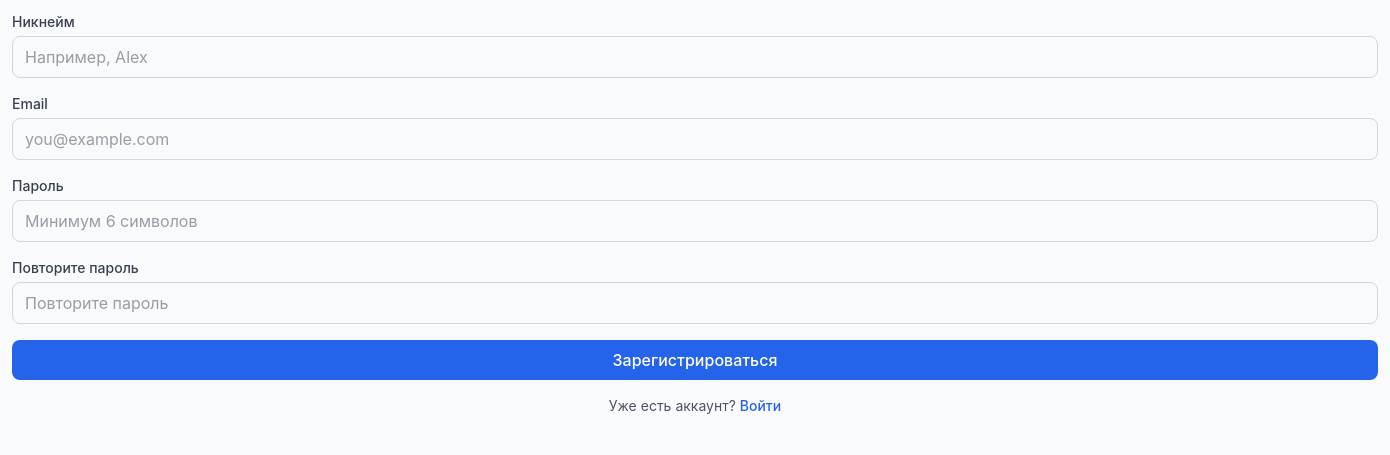
Test: RegisterForm › показывает ошибку при несовпадении паролей и не вызывает register
In the field with placeholder "Например, Alex": (695,57) top-left (12, 36), bottom-right (1378, 78), type "alex"
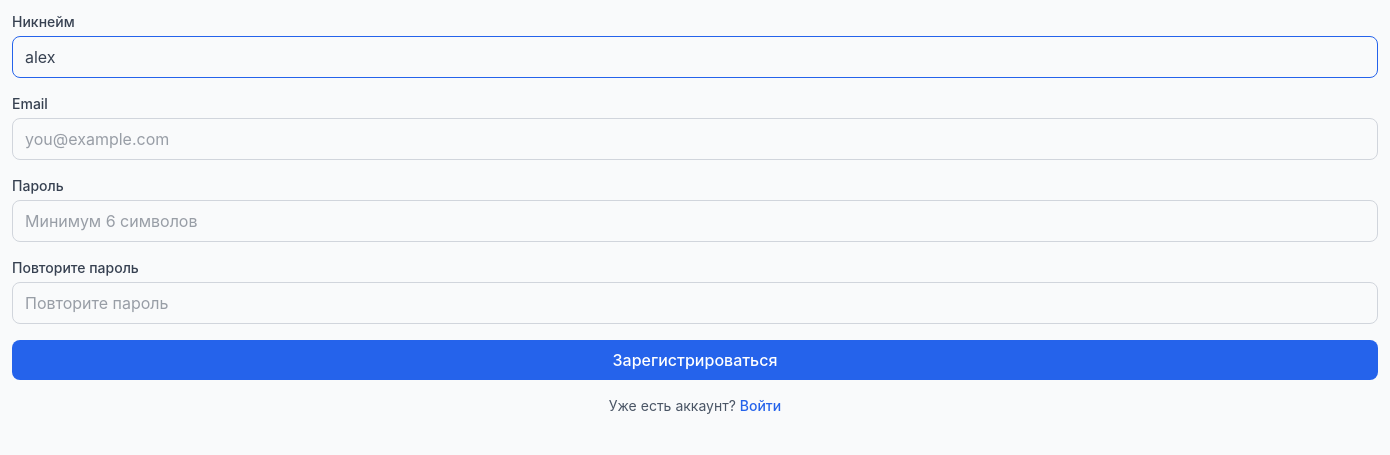
In the field with placeholder "you@example.com": (695,139) top-left (12, 118), bottom-right (1378, 160), type "alex@example.com"
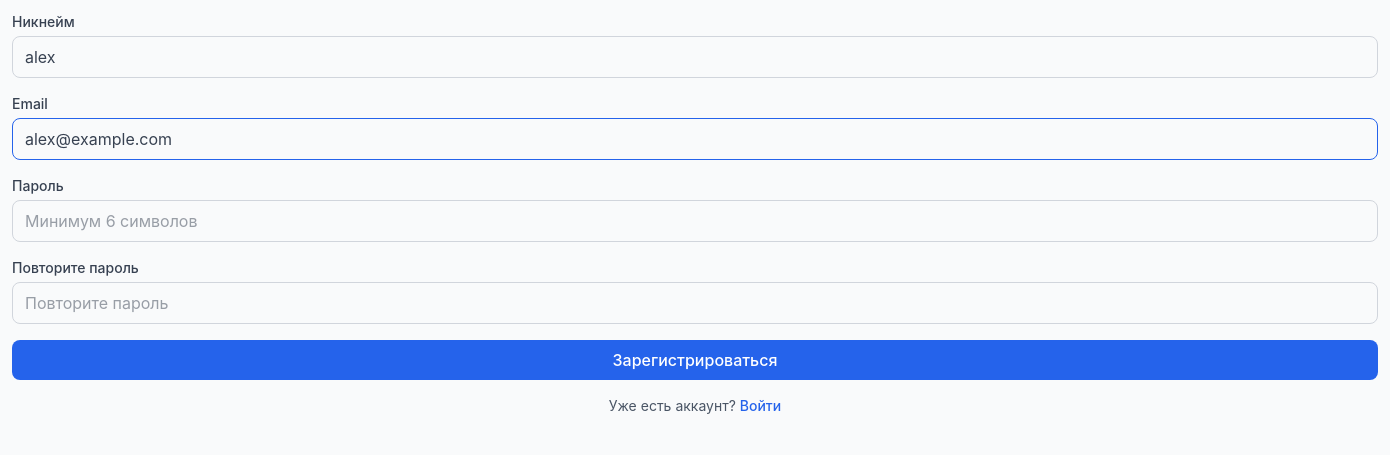
In the password field with placeholder "Минимум 6 символов": (695,221) top-left (12, 200), bottom-right (1378, 242), type "secret123"
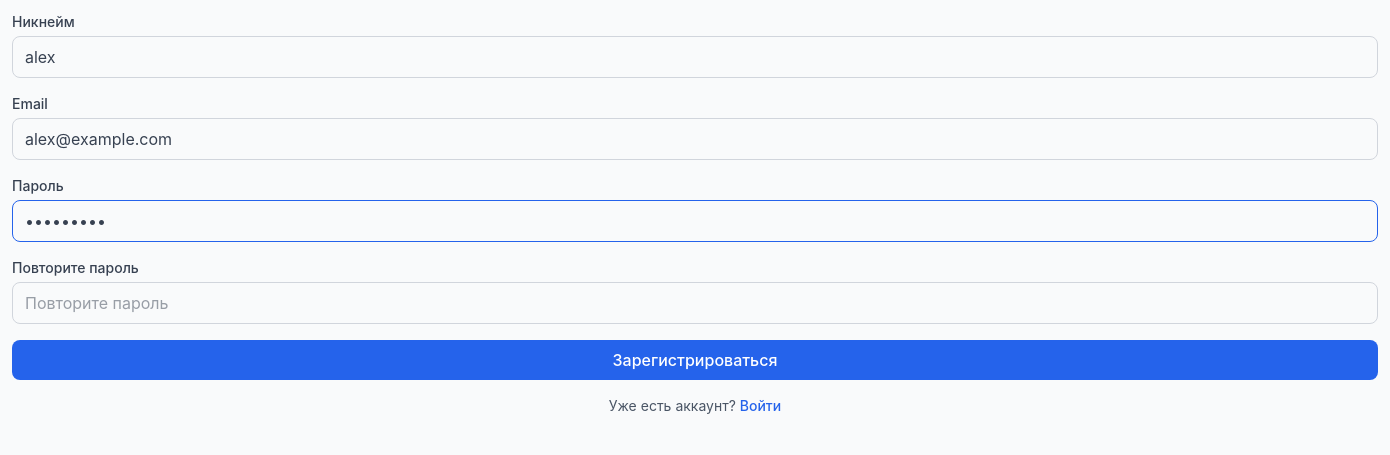
In the password field with placeholder "Повторите пароль": (695,303) top-left (12, 282), bottom-right (1378, 324), type "different123"
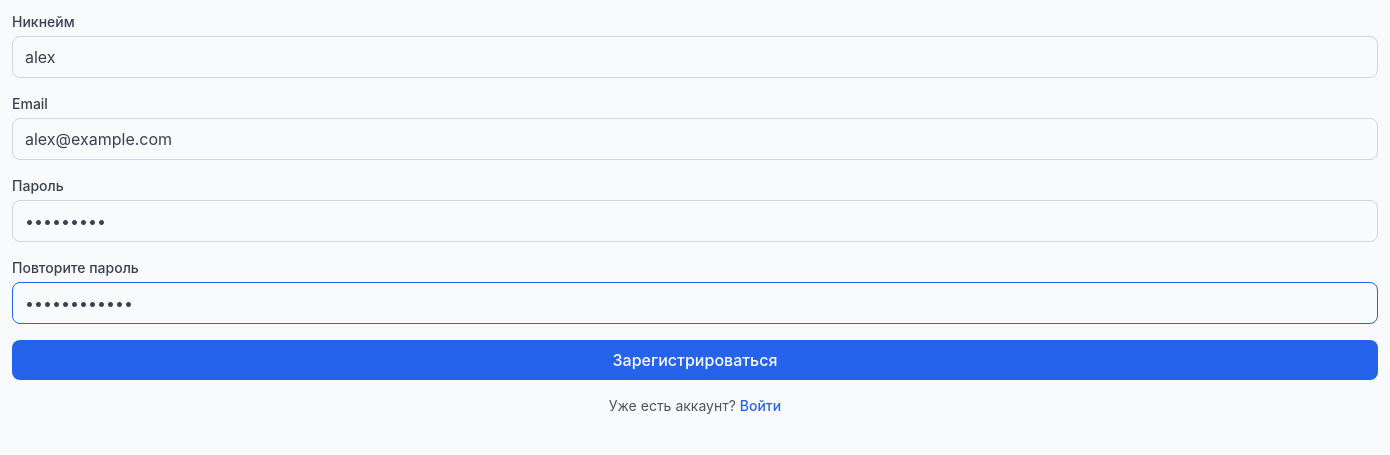
Click the button "Зарегистрироваться": (695,360) top-left (12, 340), bottom-right (1378, 380)
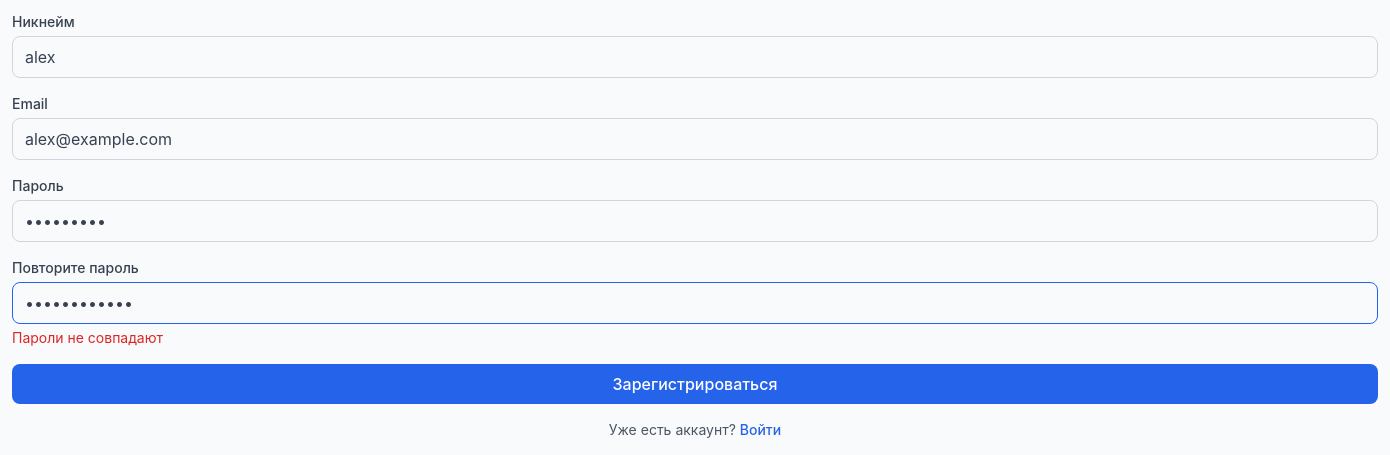
Check: the text "Пароли не совпадают" is shown, box top-left (12, 329), bottom-right (163, 346)
